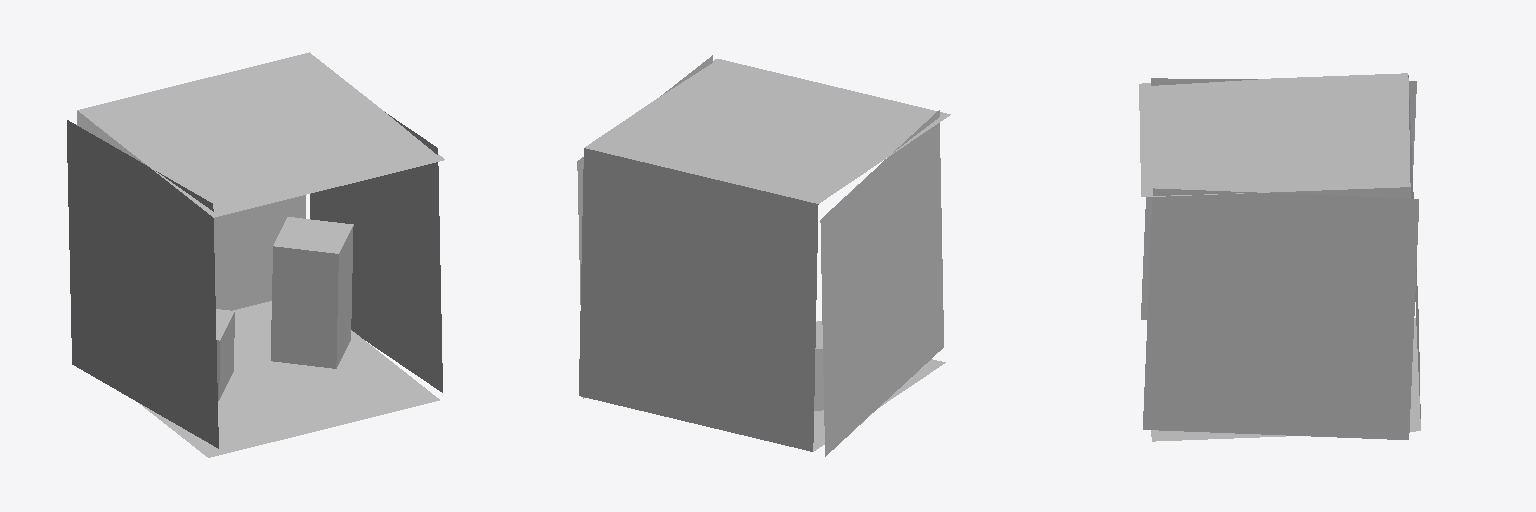
The model's file is corneil_box.obj.
3 renders of one model, left to right at view 1: azimuth 30°, elevation 25°; view 2: azimuth 150°, elevation 25°; view 3: azimuth 270°, elevation 25°, orthographic.
Parts seen in each view (by area): view 1: Plane.002, Plane.003, Plane, Plane.001, Cube.001, Plane.004, Cube; view 2: Plane.004, Plane.002, Plane.003, Plane.001, Cube, Plane; view 3: Plane, Plane.003, Plane.002, Plane.001.
Part boxes in pixels (bbox=[...]): Plane.002: bbox=[67, 120, 218, 448]; Plane.003: bbox=[77, 52, 444, 217]; Plane: bbox=[310, 112, 442, 392]; Plane.001: bbox=[139, 301, 439, 457]; Cube.001: bbox=[271, 217, 353, 368]; Plane.004: bbox=[77, 111, 305, 310]; Cube: bbox=[216, 309, 234, 400]; Plane.004: bbox=[579, 148, 818, 451]; Plane.002: bbox=[820, 110, 943, 456]; Plane.003: bbox=[585, 59, 950, 203]; Plane.001: bbox=[813, 359, 945, 451]; Cube: bbox=[814, 321, 823, 410]; Plane: bbox=[577, 55, 712, 398]; Plane: bbox=[1143, 188, 1418, 439]; Plane.003: bbox=[1139, 73, 1410, 196]; Plane.002: bbox=[1141, 78, 1416, 319]; Plane.001: bbox=[1151, 318, 1420, 441].
Bounding box in the file's own units: 6.49 × 6.5 × 6.55.